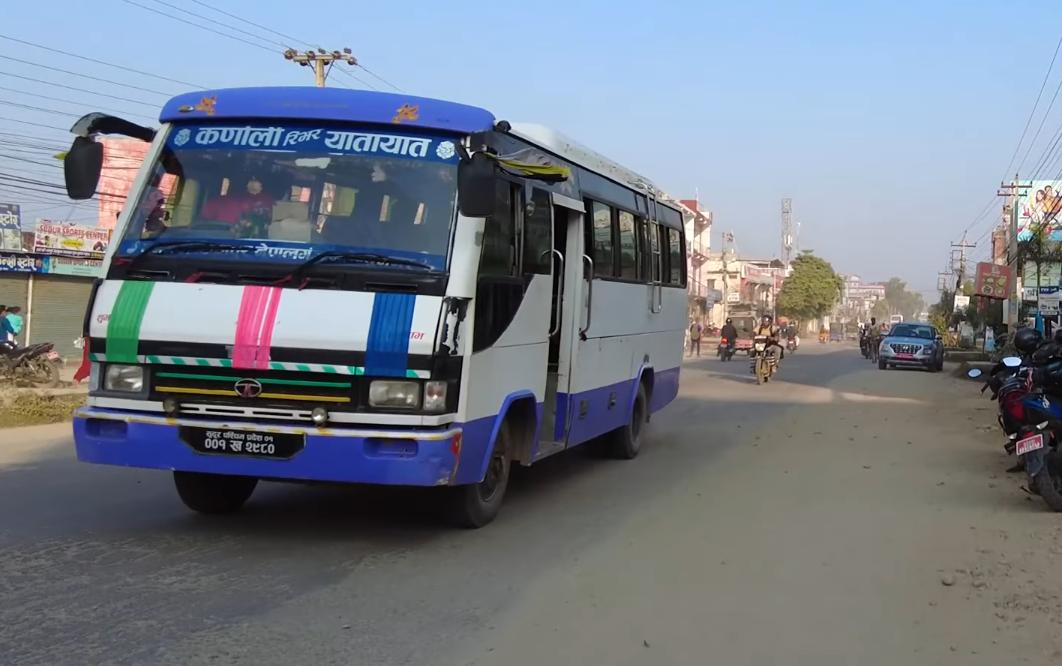bus: (49, 78, 703, 536)
